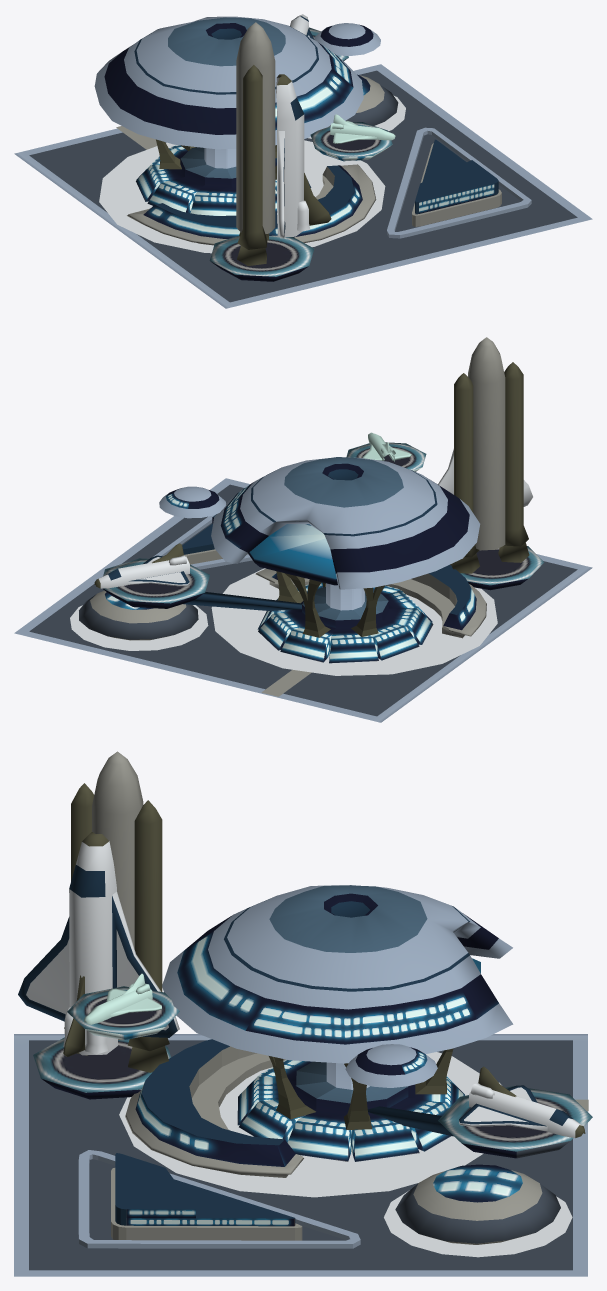
Rendered from spacestation_LV3.fbx.
3 renders of one model, top to bottom at view 1: azimuth 30°, elevation 25°; view 2: azimuth 150°, elevation 25°; view 3: azimuth 270°, elevation 25°, orthographic. The views are drawn at different scales.
Visible parts, largest first — view 1: space 3; view 2: space 3; view 3: space 3.
Boxes of the visible parts, x1,y1,x2,y2 form: space 3: [14, 14, 592, 308]; space 3: [14, 337, 592, 722]; space 3: [14, 751, 592, 1276].
Bounding box in the file's own units: 240 × 151 × 242.
